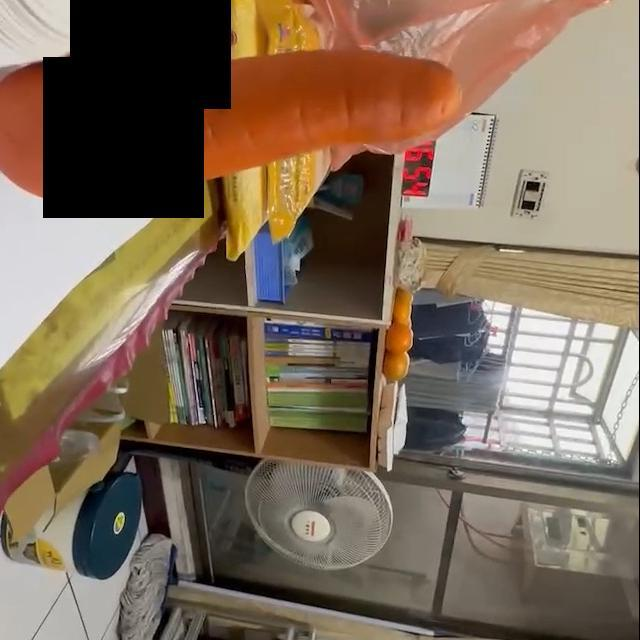carrot: (1, 54, 463, 205)
